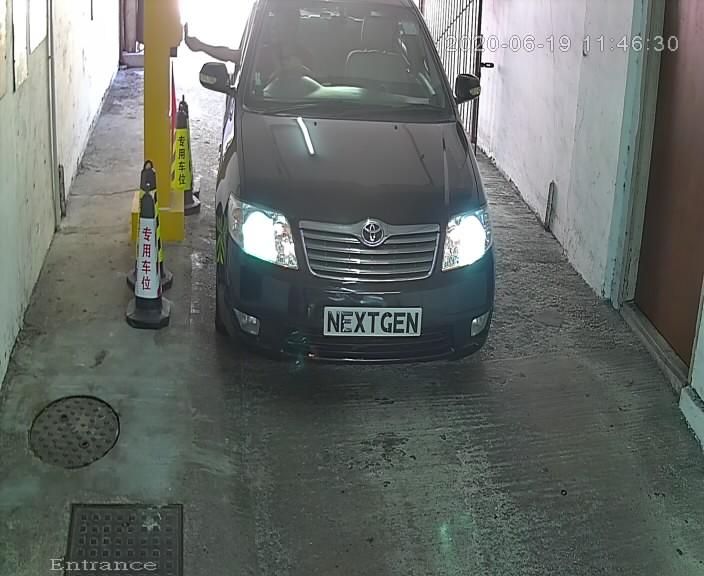privatecar: (200, 3, 503, 382)
